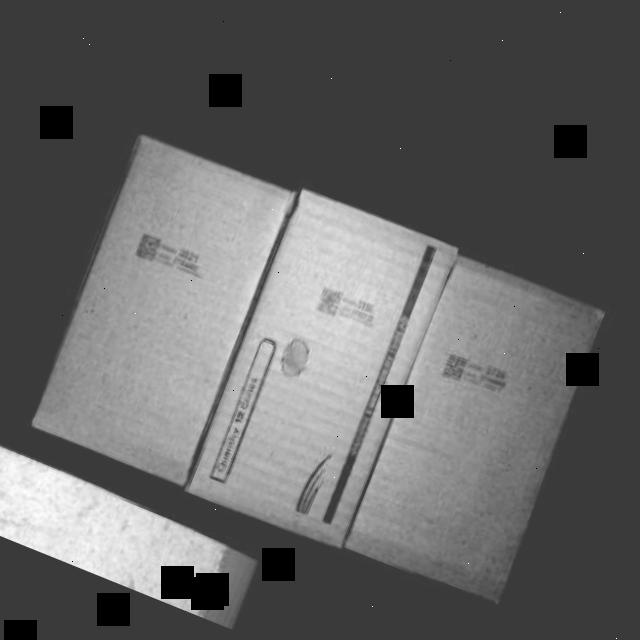box: (184, 186, 460, 544), (28, 132, 299, 487), (344, 250, 614, 602)
